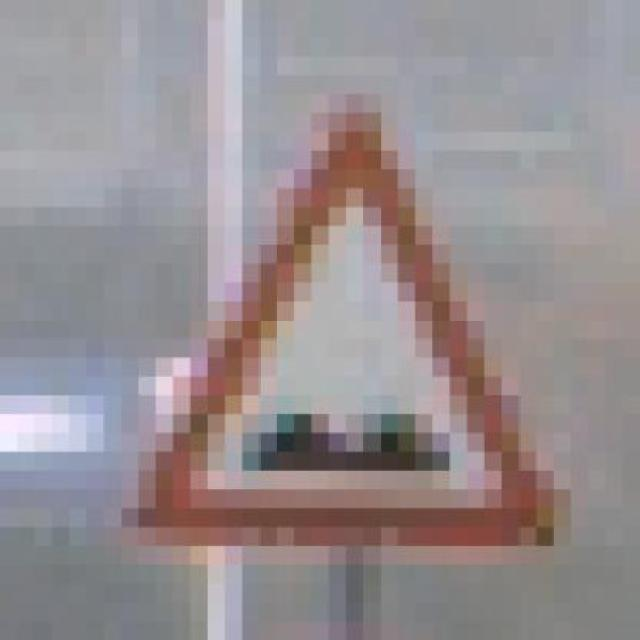Uneven Road: (103, 76, 571, 564)
